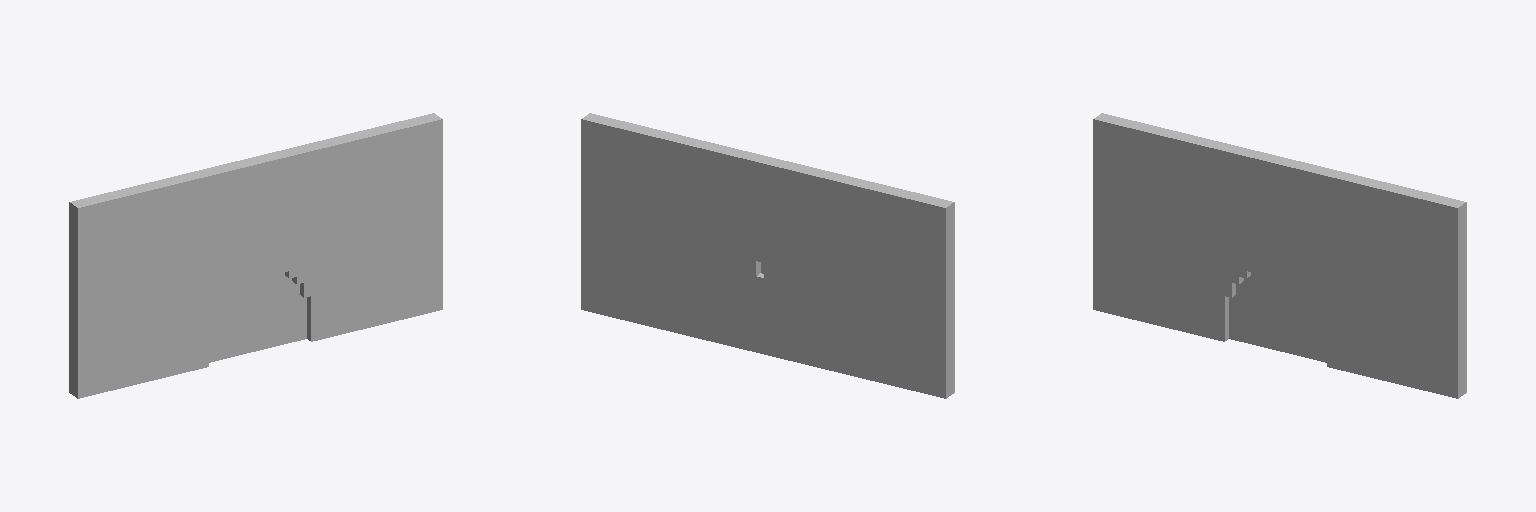
Rendered from HHY.obj.
The picture shows the model from 3 angles: view 1: azimuth 30°, elevation 25°; view 2: azimuth 150°, elevation 25°; view 3: azimuth 330°, elevation 25°; orthographic projection.
Size of the model in its own units: 50 by 25 by 2.